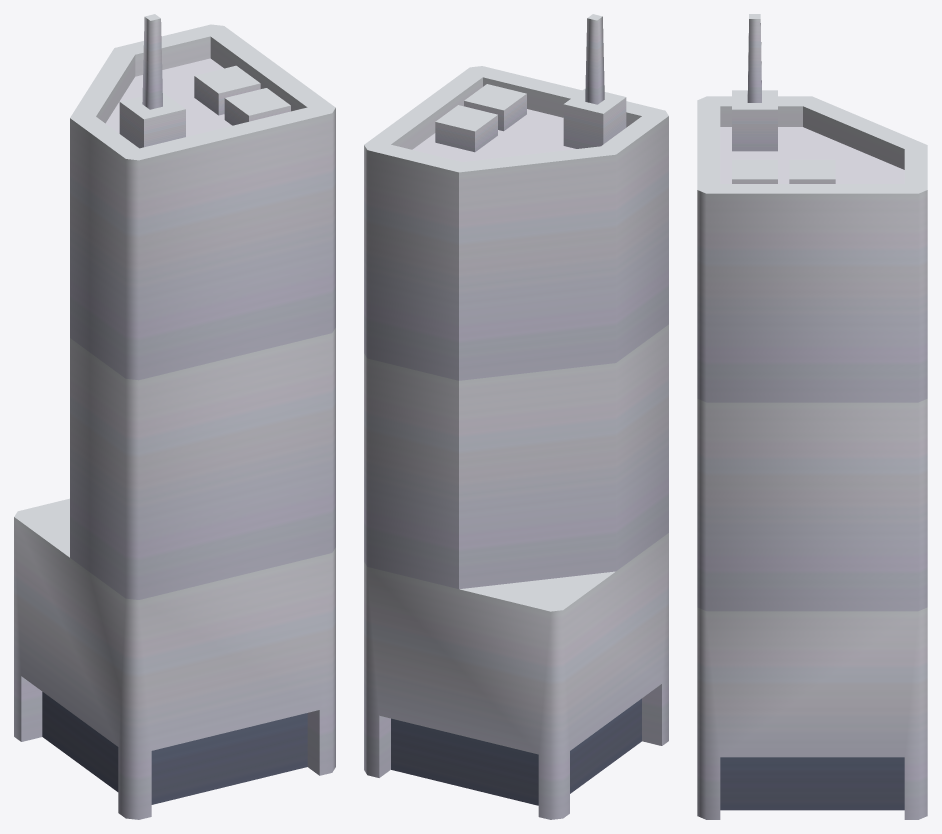
Rendered from low-detail-building-j.glb.
3 renders of one model, left to right at view 1: azimuth 30°, elevation 25°; view 2: azimuth 150°, elevation 25°; view 3: azimuth 270°, elevation 25°, orthographic. The views are drawn at different scales.
Visible parts, largest first — view 1: low-detail-building-j; view 2: low-detail-building-j; view 3: low-detail-building-j.
Boxes of the visible parts, <box> form: low-detail-building-j: <box>14,14,335,819</box>; low-detail-building-j: <box>364,14,668,819</box>; low-detail-building-j: <box>697,14,927,819</box>.
Bounding box in the file's own units: 0.5 × 1.75 × 0.5.
1 material, 1 textured.
